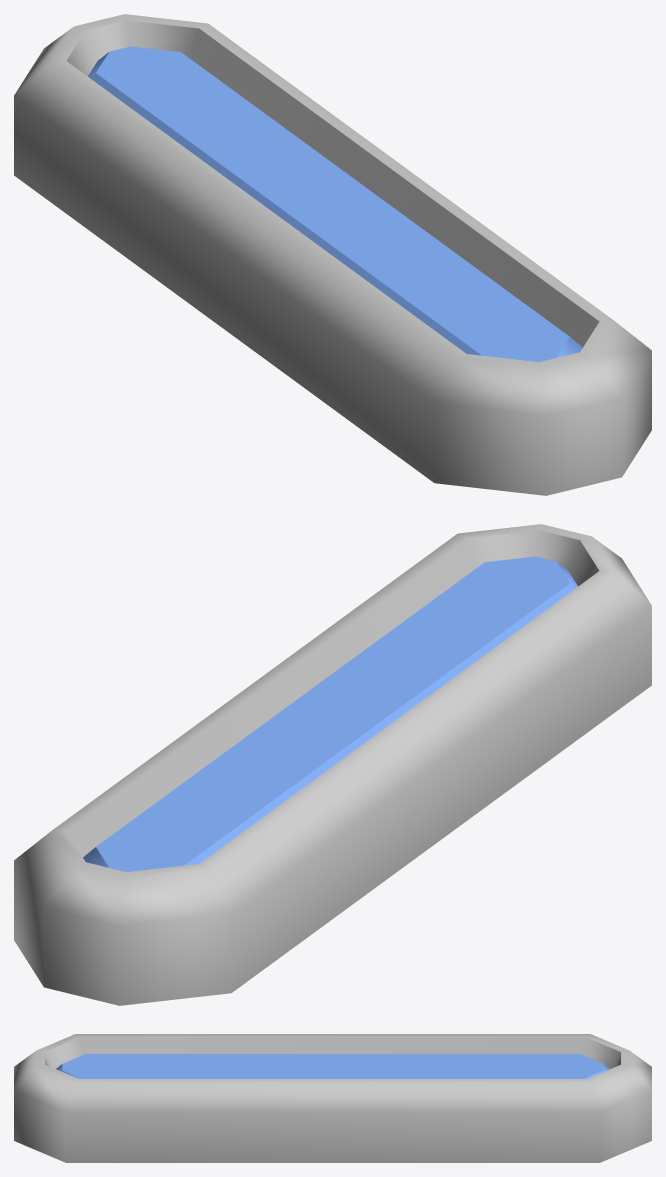
File: SM_Light_D.FBX
3 views of the same model, one above another, from view 1: azimuth 30°, elevation 25°; view 2: azimuth 150°, elevation 25°; view 3: azimuth 270°, elevation 25° (orthographic). The views are drawn at different scales.
Visible parts, largest first — view 1: SM_Light_D; view 2: SM_Light_D; view 3: SM_Light_D.
Part boxes in pixels (x1,y1,x2,y2): SM_Light_D: (14, 14, 651, 495); SM_Light_D: (14, 524, 651, 1005); SM_Light_D: (14, 1034, 651, 1162).
Size of the model in its own units: 18.3 by 8.97 by 73.21.
